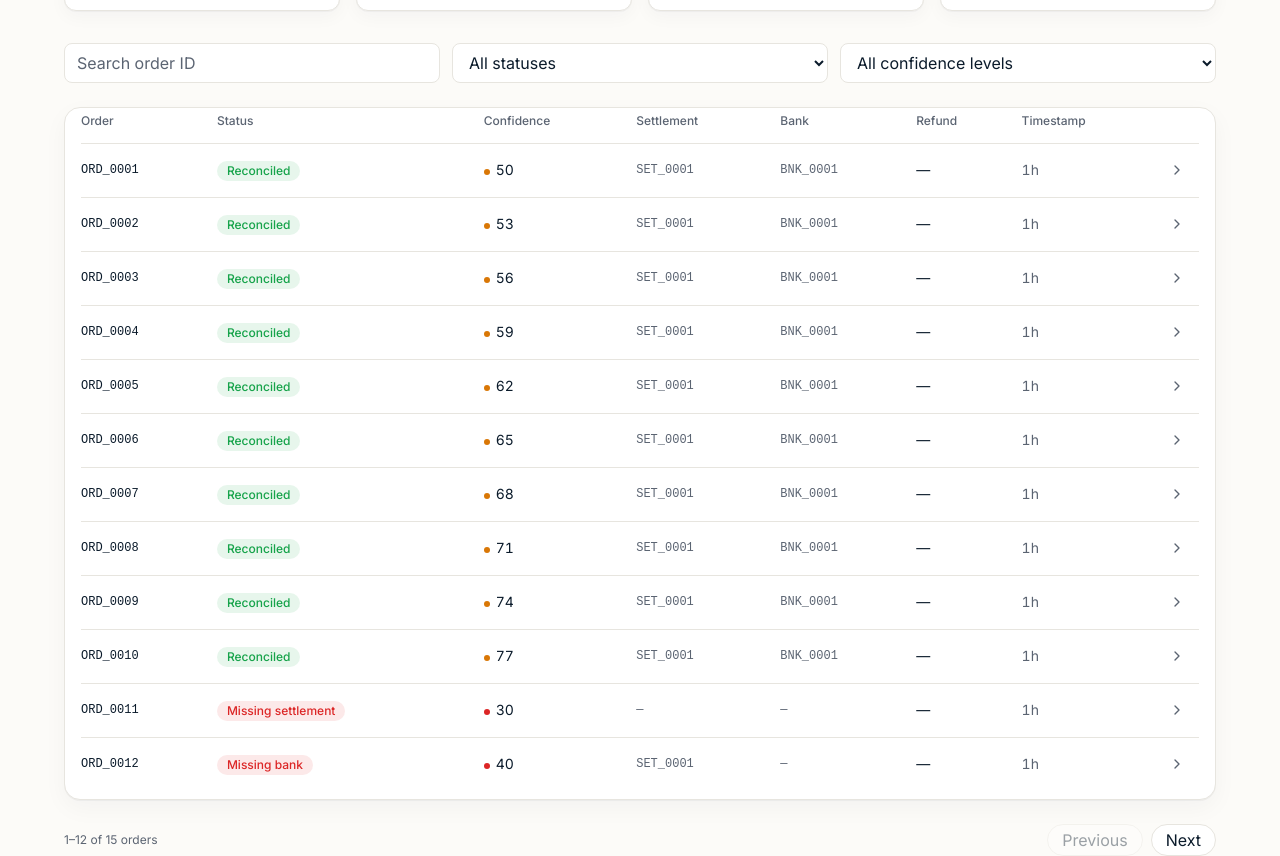
Test: frontend interactions › paginates reconciliation results
(page scrolled)
Check: the text "ORD_0001" is shown, box [81, 143, 217, 197]
Check: the text "ORD_0015" is not shown
Step 1. Click the button "Next" → [1183, 840], box [1151, 824, 1216, 855]
(page scrolled)
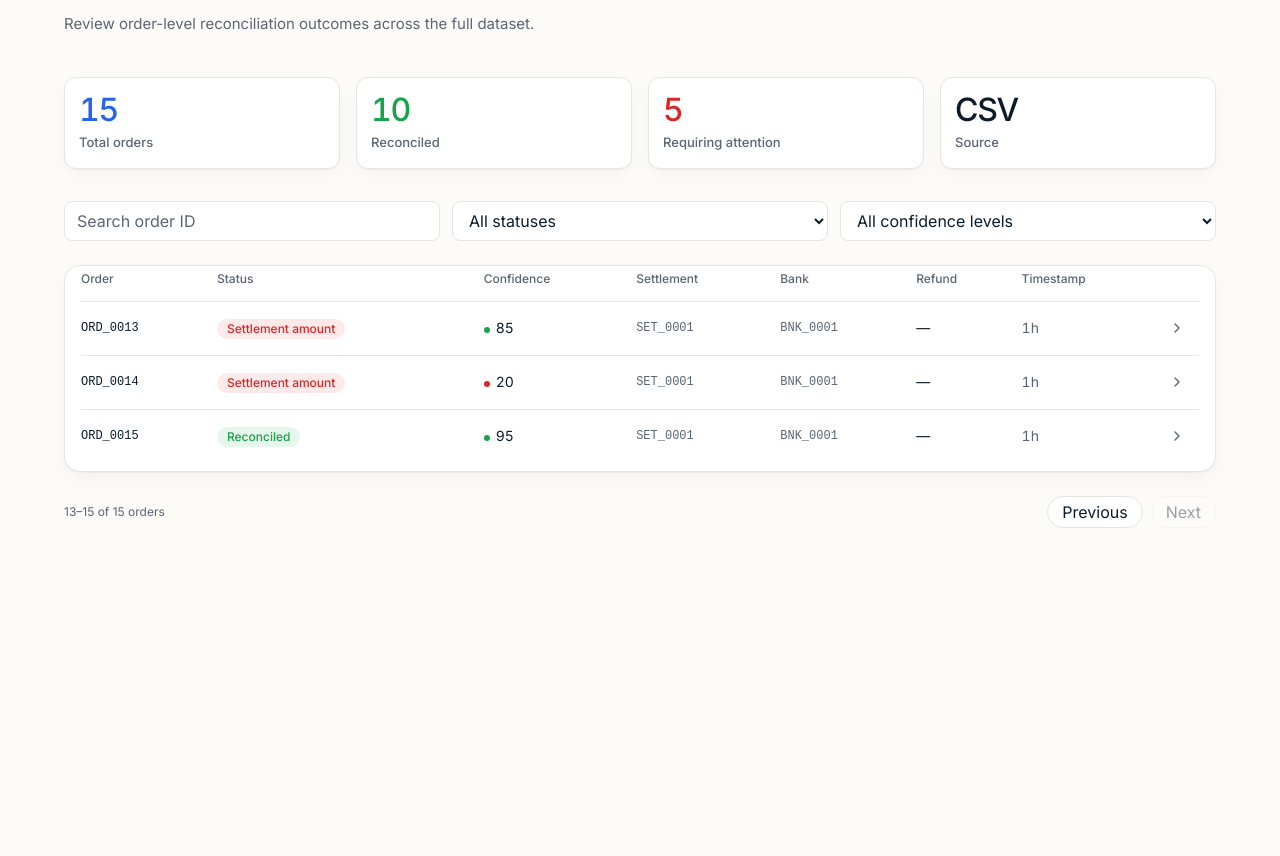
Check: the text "ORD_0015" is shown, box [81, 409, 217, 463]
Step 2. Click the button "Previous" → [1095, 512], box [1047, 496, 1143, 528]
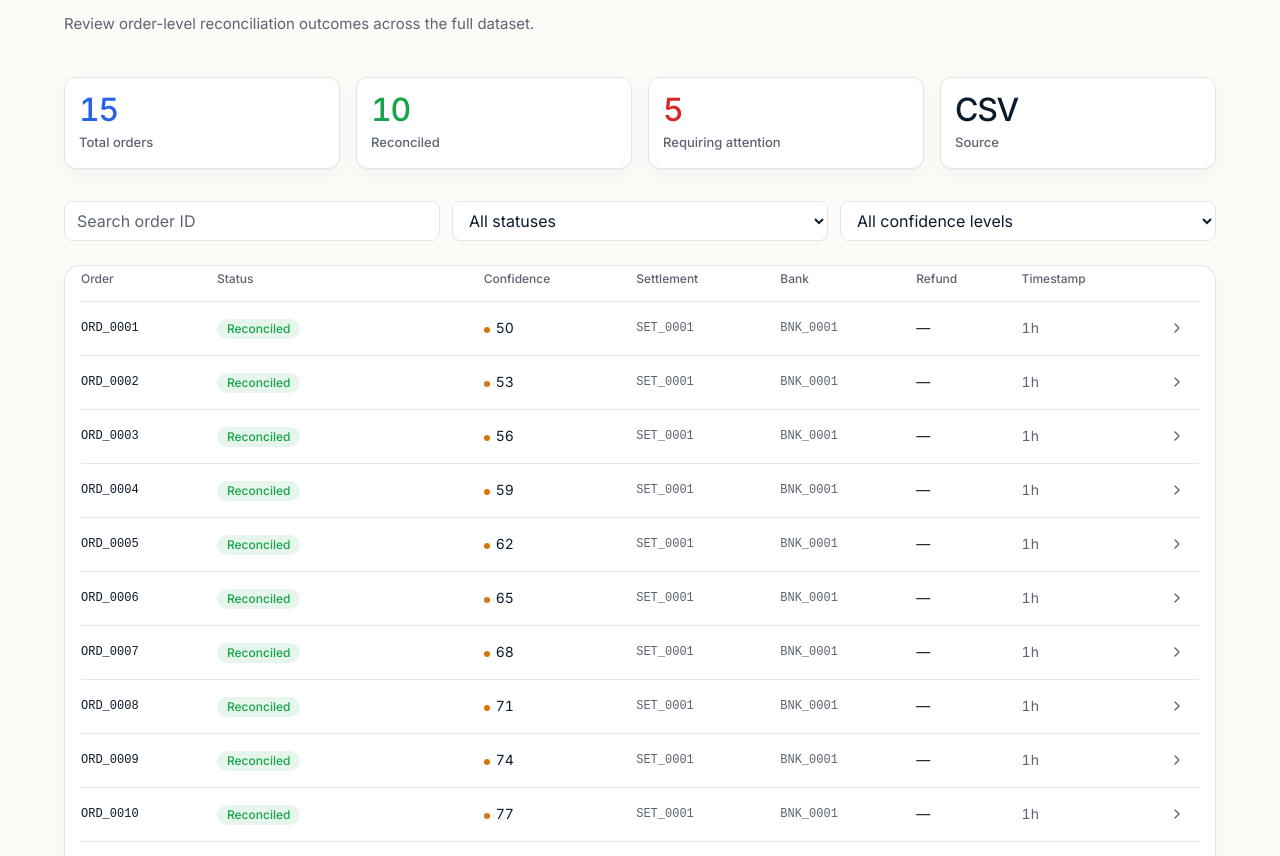
Check: the text "ORD_0001" is shown, box [81, 301, 217, 355]
